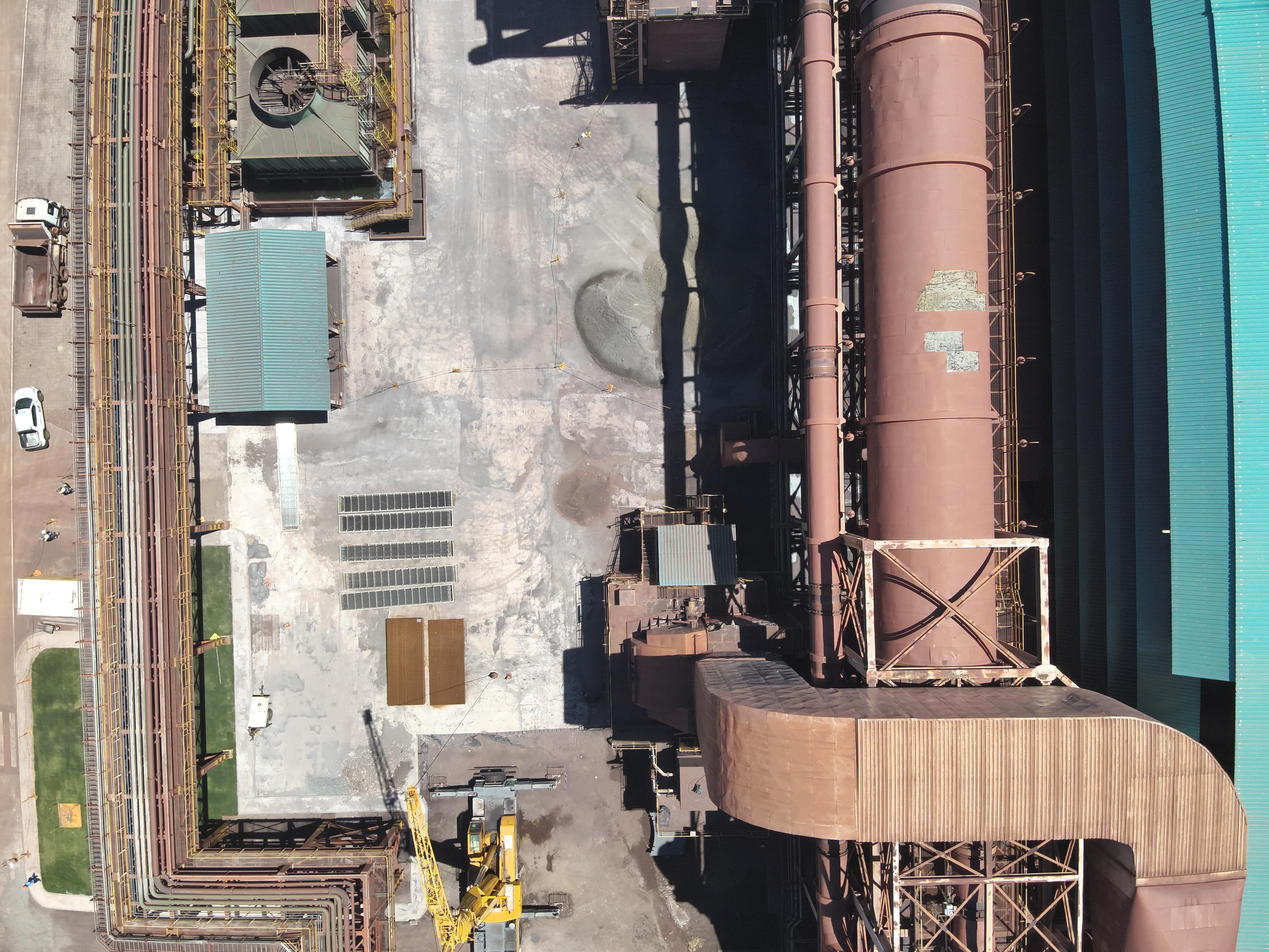Failures: (916, 269, 986, 313), (924, 331, 980, 372)
